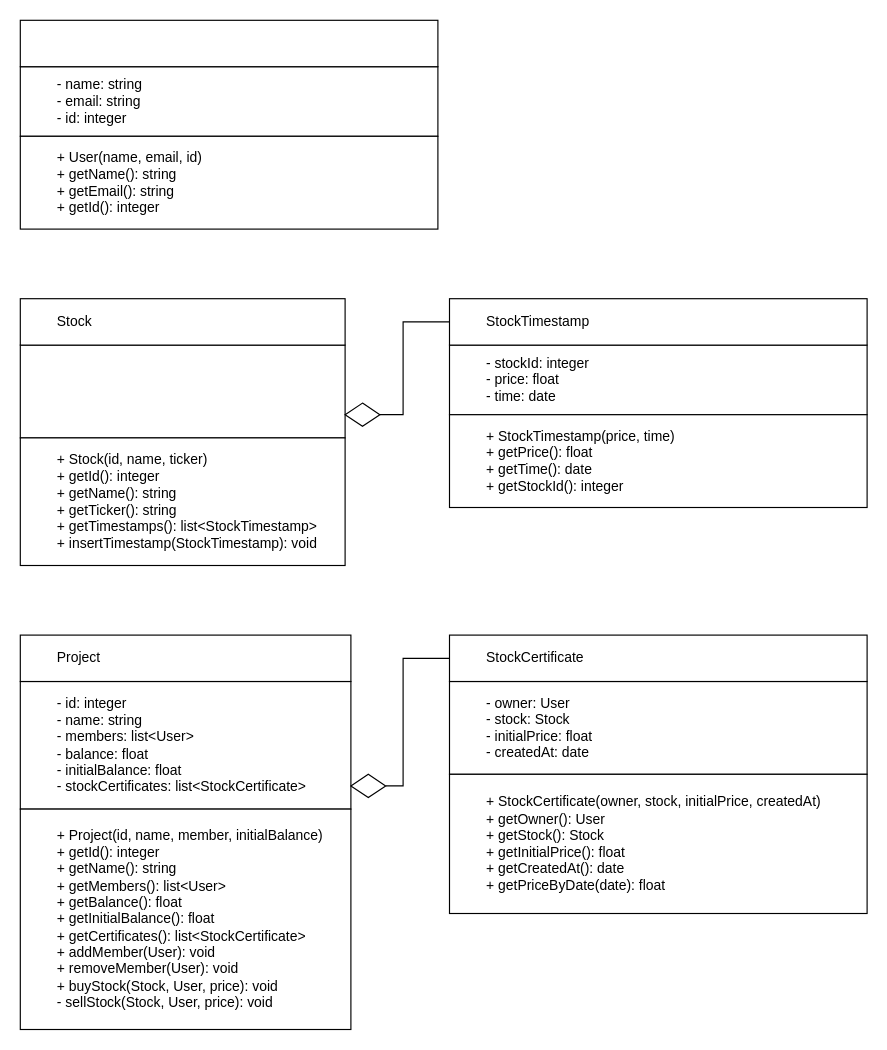
Some shapes in this 887 by 1050 pixel diagram are drawn without their labels. The shapes that lost their labels are listed below. From the top down, each one's centre as x and y in pixels, then its label:
point (228, 43): User
point (182, 391): - id: integer - name: string - ticker: string - timestamps: list<StockTimestamp>
